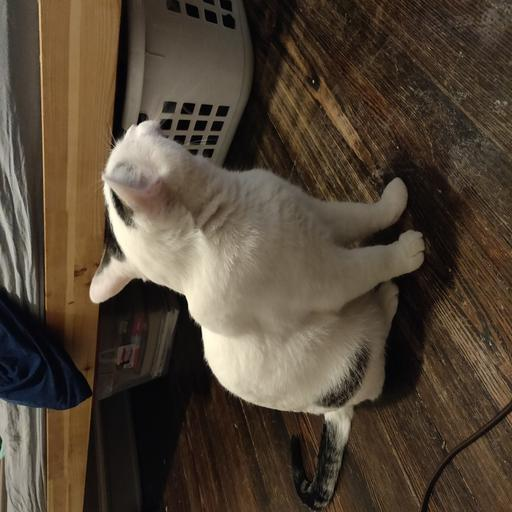cat: (91, 118, 382, 409)
